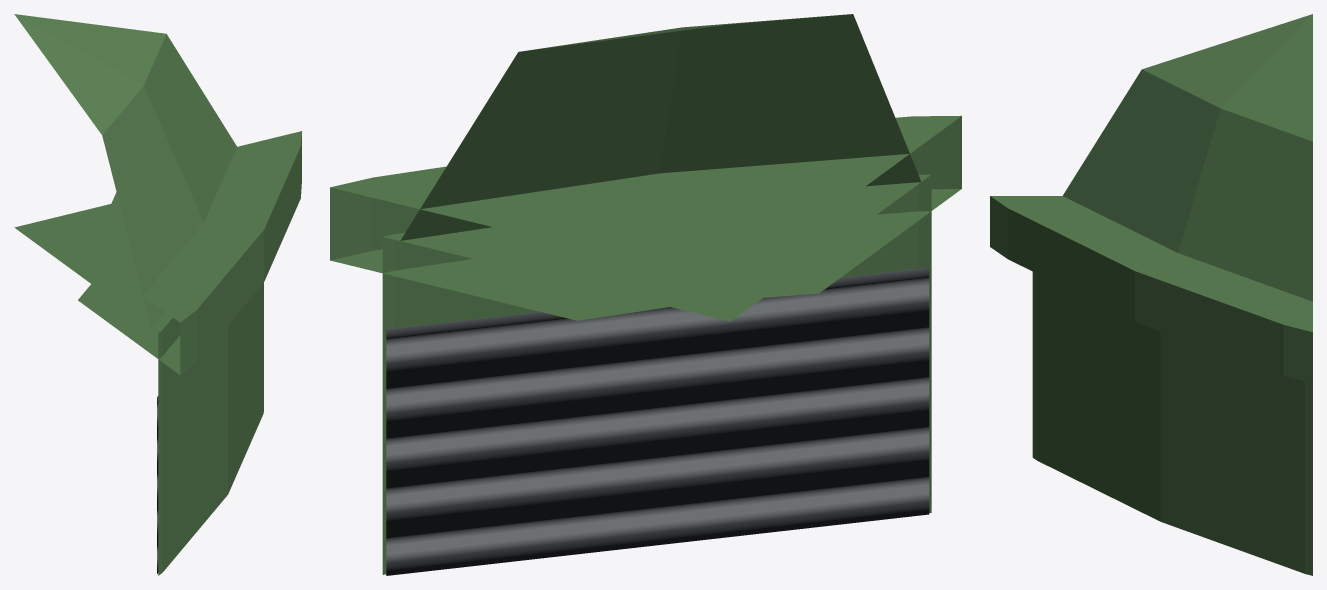
Rendered from cell_73.obj.
The picture shows the model from 3 angles, left to right: view 1: azimuth 30°, elevation 25°; view 2: azimuth 150°, elevation 25°; view 3: azimuth 270°, elevation 25°; orthographic projection. The views are drawn at different scales.
Bounding box in the file's own units: 0.2293 × 0.3476 × 0.2293.
